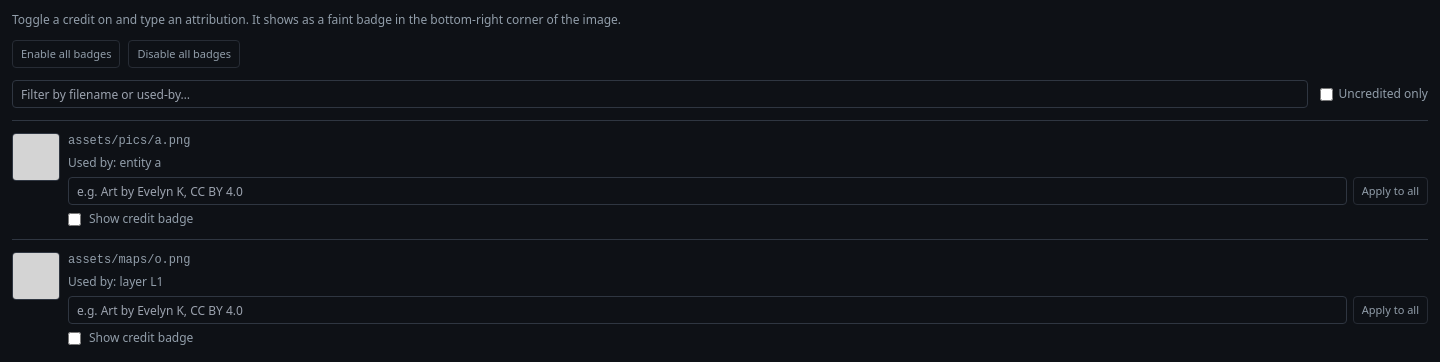
Test: AssetManagerPanel › shows a no-match message when the filter excludes every asset
In the field named "Filter assets": [660, 94] box 12,80 -> 1308,108, type "nonexistent"
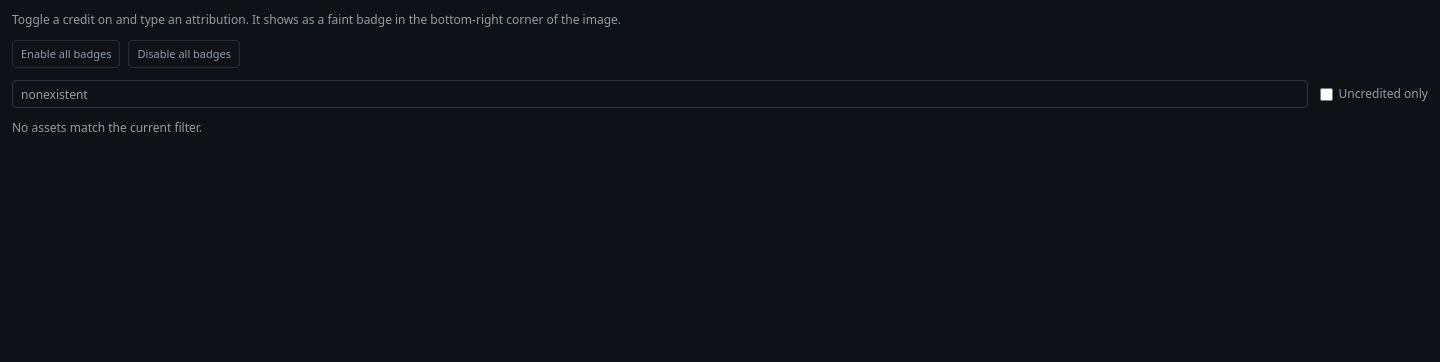
Check: the text "No assets match the current filter." is shown, box 12,119 -> 202,136
